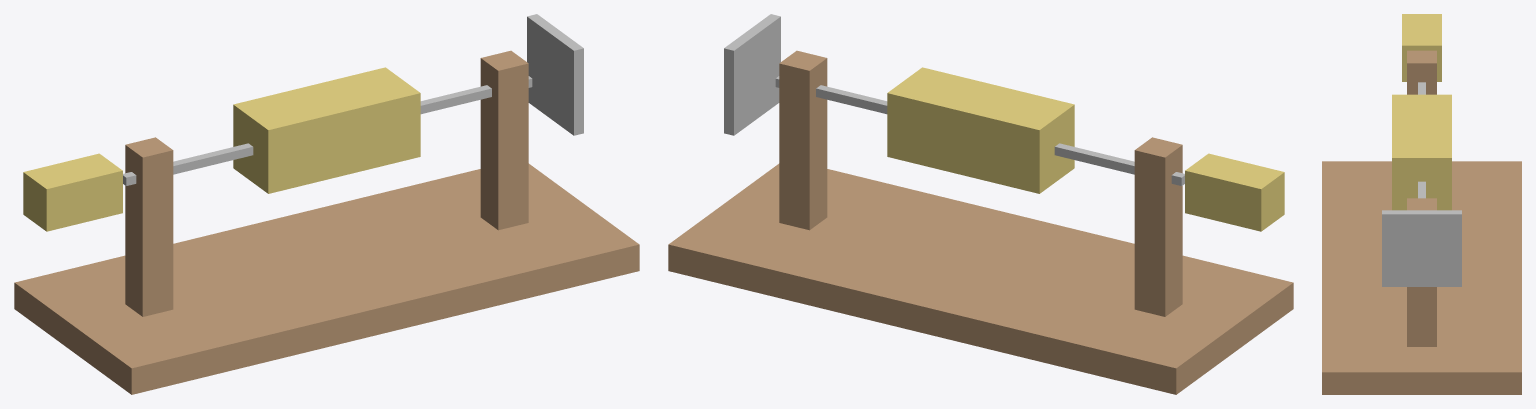
Rendered from phonograph.gltf.
The picture shows the model from 3 angles, left to right: view 1: azimuth 30°, elevation 25°; view 2: azimuth 150°, elevation 25°; view 3: azimuth 270°, elevation 25°; orthographic projection. The views are drawn at different scales.
Visible parts, largest first — view 1: Base, Cylinder, LeftSupport, RightSupport, SpeakingTube, Flywheel, Shaft; view 2: Base, Cylinder, LeftSupport, RightSupport, SpeakingTube, Flywheel, Shaft; view 3: Base, Cylinder, Flywheel, RightSupport, SpeakingTube, LeftSupport, Shaft.
Boxes of the visible parts, bbox=[...] form: Base: bbox=[14, 163, 639, 394]; Cylinder: bbox=[233, 67, 420, 193]; LeftSupport: bbox=[125, 137, 173, 316]; RightSupport: bbox=[480, 50, 528, 230]; SpeakingTube: bbox=[23, 153, 122, 231]; Flywheel: bbox=[527, 14, 583, 135]; Shaft: bbox=[123, 76, 532, 185]; Base: bbox=[668, 163, 1293, 394]; Cylinder: bbox=[887, 67, 1074, 193]; LeftSupport: bbox=[1134, 137, 1182, 316]; RightSupport: bbox=[779, 50, 827, 230]; SpeakingTube: bbox=[1185, 153, 1284, 231]; Flywheel: bbox=[724, 14, 780, 135]; Shaft: bbox=[775, 76, 1184, 185]; Base: bbox=[1322, 161, 1521, 394]; Cylinder: bbox=[1392, 94, 1451, 210]; Flywheel: bbox=[1382, 210, 1461, 286]; RightSupport: bbox=[1407, 198, 1436, 346]; SpeakingTube: bbox=[1402, 14, 1441, 81]; LeftSupport: bbox=[1407, 50, 1436, 94]; Shaft: bbox=[1418, 82, 1425, 198].
Size of the model in its own units: 1.08 by 0.38 by 0.4.
